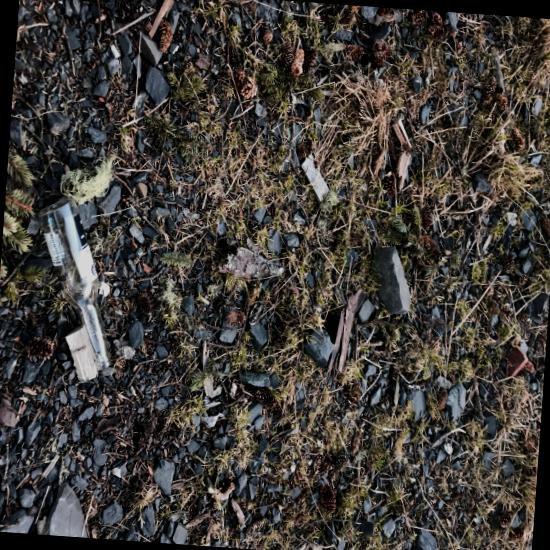Meal carton: (354, 197, 398, 258)
Plastic film: (378, 222, 391, 249)
